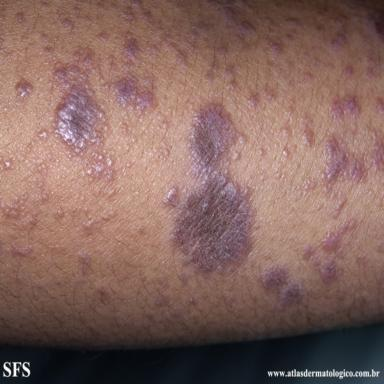lichen: (163, 104, 253, 275), (53, 51, 106, 154), (302, 219, 356, 283), (259, 260, 307, 309), (323, 136, 366, 186), (346, 1, 384, 45), (207, 1, 255, 34), (114, 77, 155, 115), (85, 152, 115, 184), (183, 20, 213, 50), (163, 36, 187, 66), (0, 194, 28, 219), (121, 33, 140, 69), (331, 97, 360, 116), (372, 129, 384, 170), (123, 0, 143, 23), (205, 53, 218, 84), (265, 38, 283, 60), (333, 192, 347, 219), (302, 120, 315, 147), (11, 245, 36, 259), (78, 252, 92, 275), (16, 79, 32, 99), (59, 12, 74, 33), (366, 48, 376, 79), (331, 33, 347, 52), (226, 64, 237, 91), (41, 33, 54, 55), (15, 7, 26, 26), (247, 92, 259, 109), (216, 43, 228, 58), (342, 65, 353, 80), (1, 158, 14, 170), (37, 129, 48, 141), (97, 31, 109, 42), (335, 16, 347, 27), (286, 18, 298, 28), (377, 98, 384, 115), (143, 11, 151, 20)
